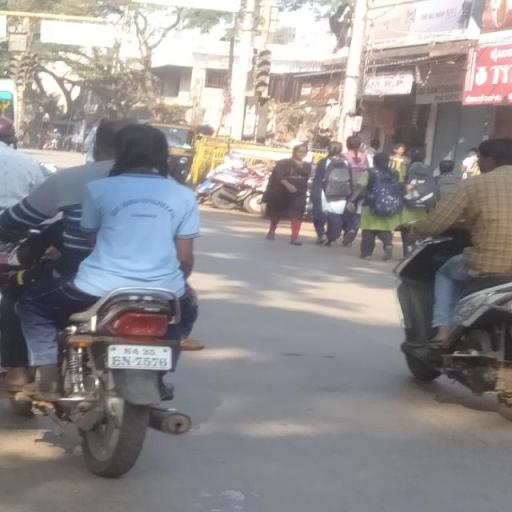bike: (6, 113, 208, 478)
numberplate: (104, 343, 174, 371)
withouthelmet: (116, 124, 170, 173), (94, 122, 124, 160)
